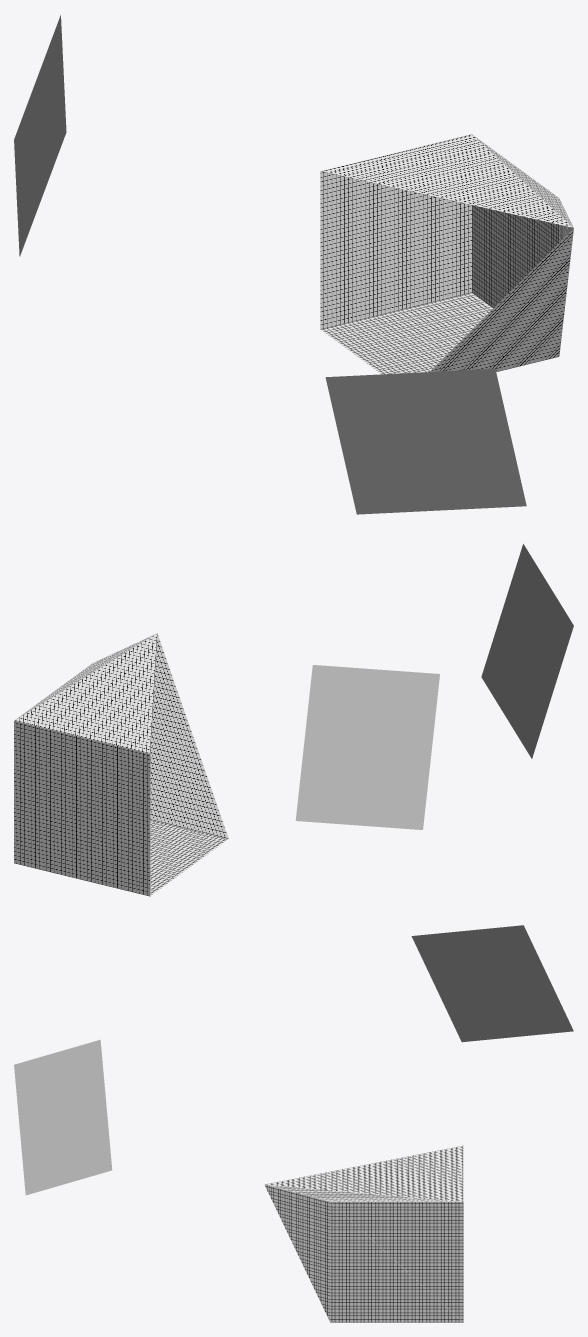
Rendered from JACKASS.gltf.
3 renders of one model, top to bottom at view 1: azimuth 30°, elevation 25°; view 2: azimuth 150°, elevation 25°; view 3: azimuth 270°, elevation 25°, orthographic. The views are drawn at different scales.
Visible parts, largest first — view 1: Cube.001; view 2: Cube.001; view 3: Cube.001.
Part boxes in pixels (x1,y1,x2,y2): Cube.001: [14, 15, 573, 514]; Cube.001: [14, 544, 573, 896]; Cube.001: [14, 925, 573, 1322].
Size of the model in its own units: 5.99 by 4.29 by 8.4.
